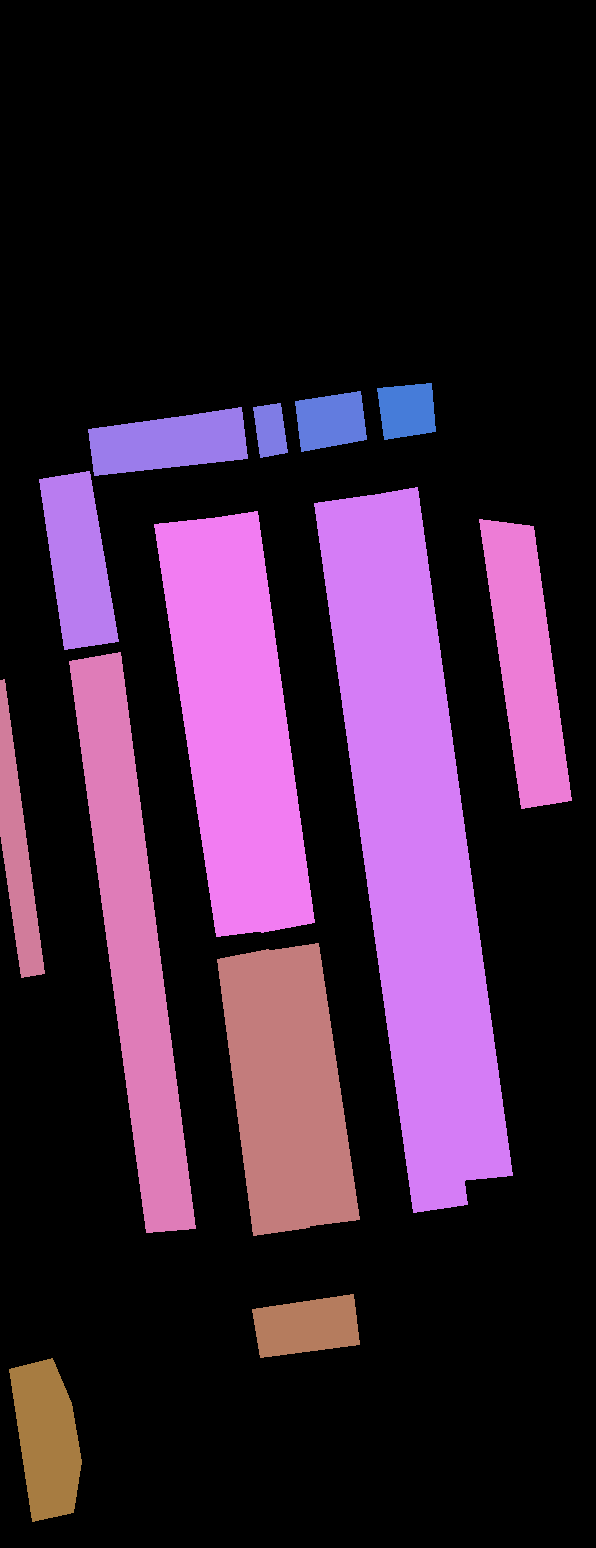parkingspot: (314, 495, 467, 1212), (366, 487, 512, 1180), (69, 652, 195, 1232), (154, 518, 264, 936), (205, 511, 314, 932), (265, 943, 359, 1226), (479, 519, 571, 808), (217, 949, 309, 1235), (39, 471, 118, 649), (0, 679, 44, 977), (9, 1358, 81, 1521), (88, 407, 247, 475), (252, 1294, 359, 1357), (295, 391, 366, 451), (377, 383, 435, 439), (253, 403, 287, 457)
